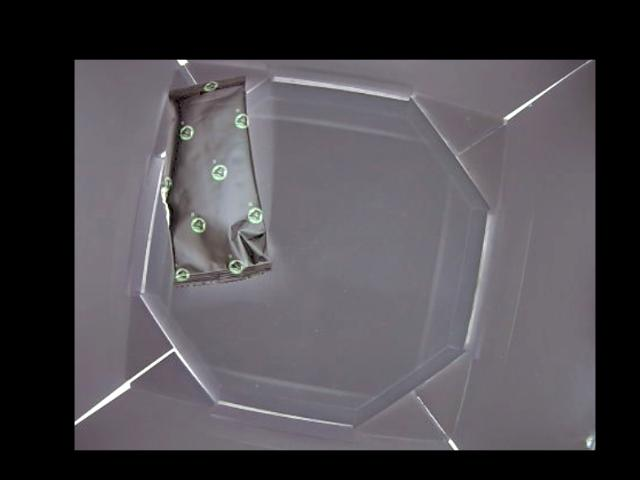Medicine: (157, 77, 273, 290)
